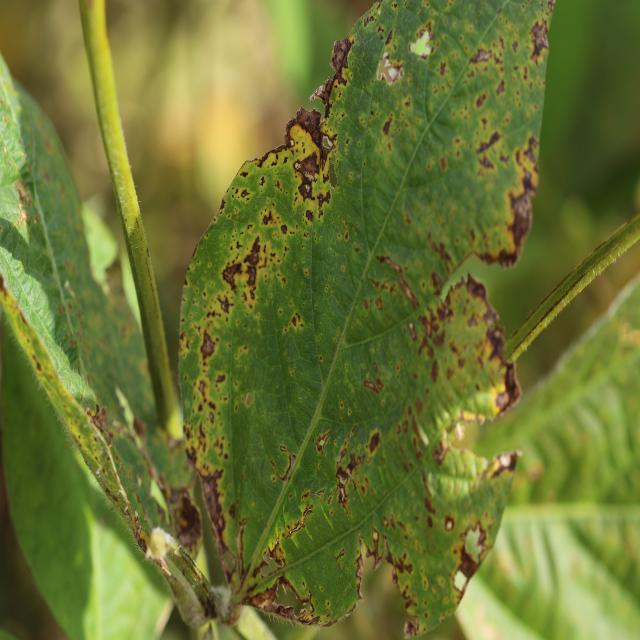Bacterial_Blight: (398, 269, 511, 462), (490, 154, 541, 266), (311, 21, 362, 131), (192, 463, 234, 575), (238, 200, 298, 277), (452, 275, 506, 340), (332, 428, 371, 514), (190, 361, 229, 432), (389, 406, 428, 472), (452, 519, 489, 588), (377, 253, 419, 306), (511, 134, 542, 204), (238, 243, 271, 299), (240, 578, 286, 616), (377, 27, 407, 84), (173, 493, 202, 551), (474, 126, 504, 174), (279, 503, 313, 543), (362, 523, 387, 572), (277, 575, 314, 608), (293, 152, 320, 197), (309, 72, 336, 117), (329, 34, 355, 77), (270, 445, 298, 483), (418, 303, 443, 343), (485, 323, 507, 368), (255, 141, 293, 167), (335, 423, 359, 463), (586, 253, 618, 283), (528, 19, 550, 62), (318, 127, 337, 170), (409, 29, 433, 59), (222, 259, 243, 293), (243, 234, 263, 267), (263, 541, 285, 570), (354, 539, 365, 593), (326, 150, 340, 191), (199, 329, 217, 360), (284, 310, 305, 335), (335, 465, 353, 494), (432, 439, 450, 466), (363, 371, 384, 394), (469, 47, 492, 66), (316, 189, 332, 214), (315, 430, 332, 453), (403, 616, 420, 637), (217, 294, 232, 315), (297, 611, 320, 624), (368, 430, 381, 452), (430, 359, 440, 383), (382, 115, 393, 136), (243, 391, 254, 408), (408, 321, 417, 341), (496, 79, 506, 96), (444, 516, 455, 531), (305, 209, 314, 224), (215, 373, 226, 385), (313, 488, 325, 498), (335, 548, 345, 560), (240, 188, 249, 199), (440, 157, 447, 171), (280, 223, 288, 235)
Soybean: (180, 0, 554, 636)
